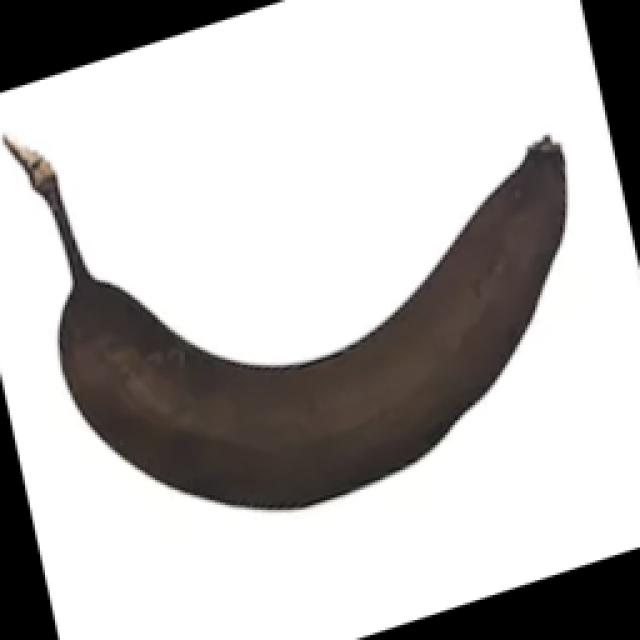Rotten_Banana: (8, 124, 636, 502)
